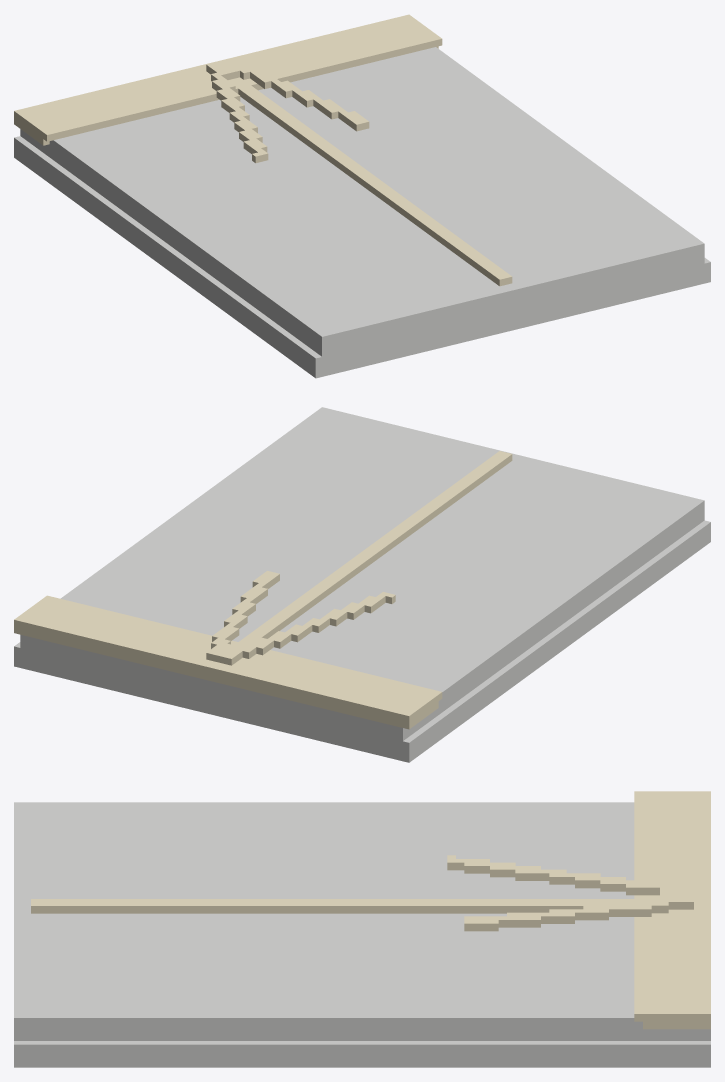
File: zubon_gi.glb
3 renders of one model, top to bottom at view 1: azimuth 30°, elevation 25°; view 2: azimuth 150°, elevation 25°; view 3: azimuth 270°, elevation 25°, orthographic. The views are drawn at different scales.
Visible parts, largest first — view 1: zubon_gi:compound; view 2: zubon_gi:compound; view 3: zubon_gi:compound.
Part boxes in pixels (x1,y1,x2,y2): zubon_gi:compound: (14, 14, 710, 378); zubon_gi:compound: (14, 407, 710, 762); zubon_gi:compound: (14, 791, 710, 1067).
Bounding box in the file's own units: 0.248 × 0.032 × 0.328.
